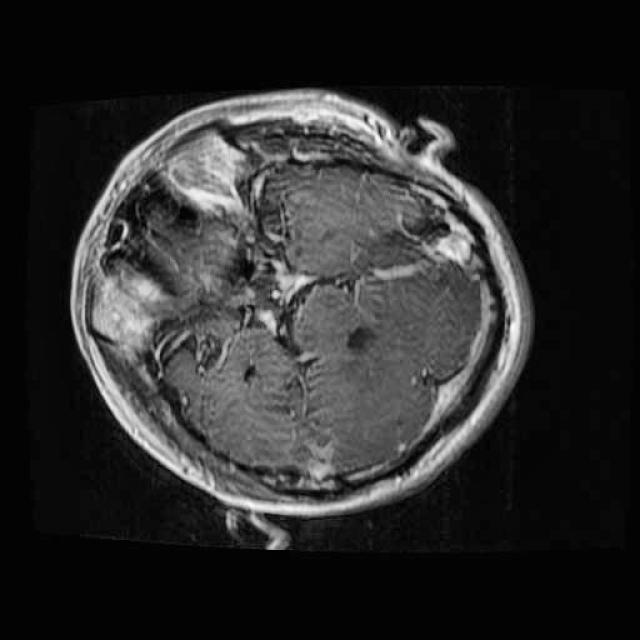Tumor: (210, 252, 292, 329)
